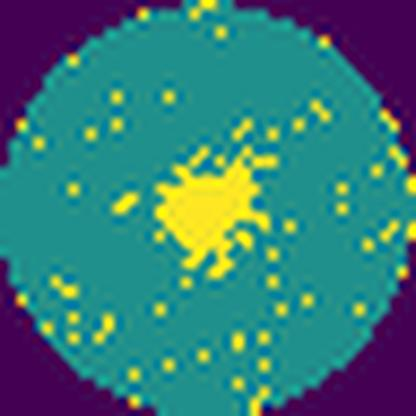Center: (154, 147, 270, 280)
